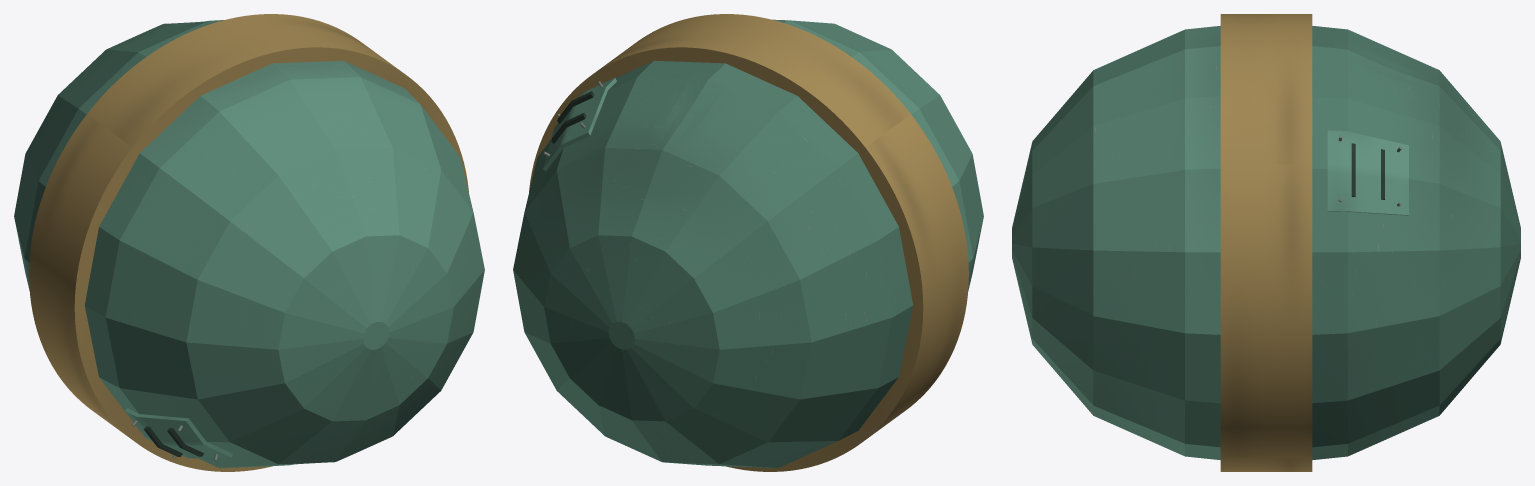
3 views of the same model, side by side, from view 1: azimuth 30°, elevation 25°; view 2: azimuth 150°, elevation 25°; view 3: azimuth 270°, elevation 25° (orthographic).
Parts seen in each view (by area): view 1: Artemian Advanced Warhead forward metal shell, Artemian Advanced Warhead gold transverse belt, Artemian Advanced Warhead rear metal shell, Artemian Advanced Warhead service cover 0; view 2: Artemian Advanced Warhead rear metal shell, Artemian Advanced Warhead gold transverse belt, Artemian Advanced Warhead forward metal shell, Artemian Advanced Warhead service cover 1; view 3: Artemian Advanced Warhead forward metal shell, Artemian Advanced Warhead rear metal shell, Artemian Advanced Warhead gold transverse belt, Artemian Advanced Warhead service cover 1.
Part boxes in pixels (left/top/right/bottom): Artemian Advanced Warhead forward metal shell: left=84, top=60, right=484, bottom=468; Artemian Advanced Warhead gold transverse belt: left=29, top=14, right=468, bottom=471; Artemian Advanced Warhead rear metal shell: left=14, top=20, right=223, bottom=290; Artemian Advanced Warhead service cover 0: left=125, top=408, right=232, bottom=458; Artemian Advanced Warhead rear metal shell: left=513, top=60, right=913, bottom=468; Artemian Advanced Warhead gold transverse belt: left=529, top=14, right=968, bottom=471; Artemian Advanced Warhead forward metal shell: left=772, top=19, right=983, bottom=290; Artemian Advanced Warhead service cover 1: left=543, top=78, right=616, bottom=170; Artemian Advanced Warhead forward metal shell: left=1012, top=26, right=1220, bottom=459; Artemian Advanced Warhead rear metal shell: left=1312, top=26, right=1520, bottom=459; Artemian Advanced Warhead gold transverse belt: left=1220, top=14, right=1312, bottom=471; Artemian Advanced Warhead service cover 1: left=1327, top=130, right=1408, bottom=215.
Bounding box in the file's own units: 0.9 × 0.9 × 1.
Materials: 5 (3 with a texture image).
